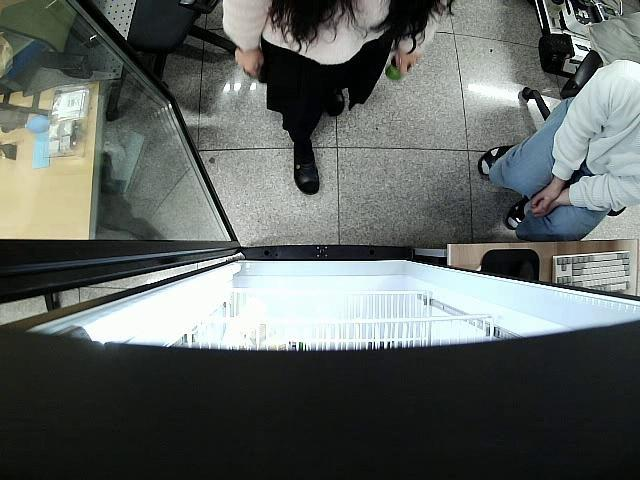19_17cha: (384, 56, 414, 85)
